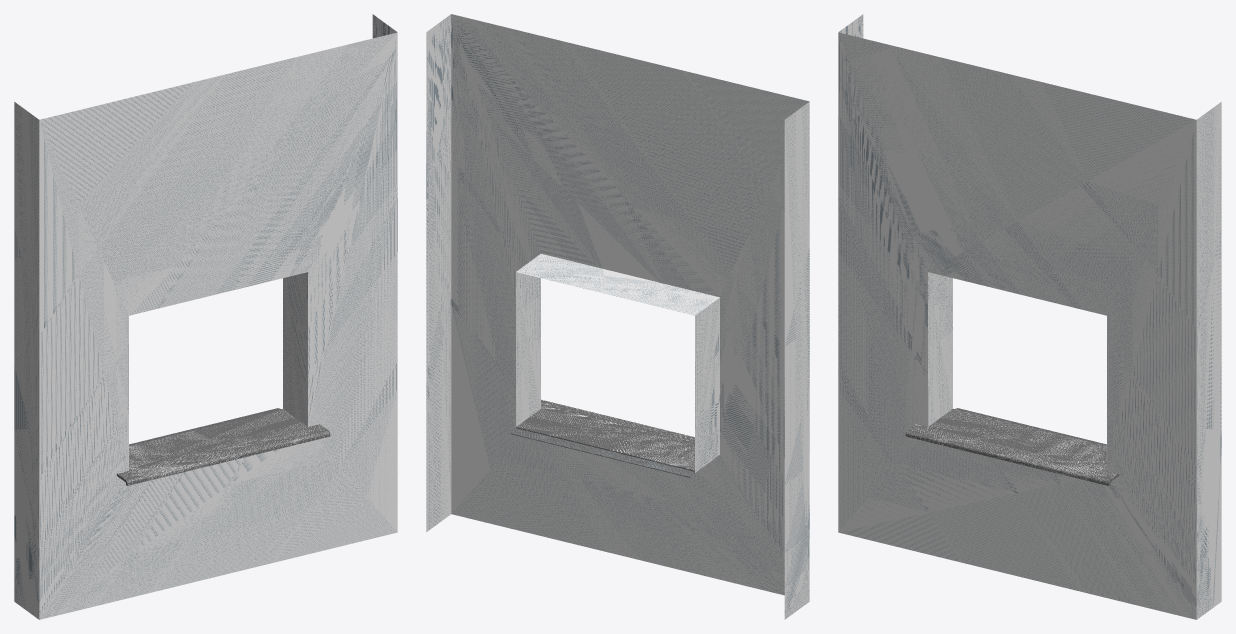
The model's file is WindowBlock_os_[300x400]_150x124x[100].dae.
The picture shows the model from 3 angles, left to right: view 1: azimuth 30°, elevation 25°; view 2: azimuth 150°, elevation 25°; view 3: azimuth 330°, elevation 25°; orthographic projection.
Parts seen in each view (by area): view 1: group_2 (×2), group_1; view 2: group_2 (×2), group_1 (×2); view 3: group_2 (×2), group_1.
Boxes of the visible parts, left/top/right/bottom form: group_2 (×2): left=14, top=14, right=397, bottom=619; group_1: left=117, top=409, right=330, bottom=485; group_2 (×2): left=426, top=14, right=809, bottom=619; group_1 (×2): left=511, top=399, right=694, bottom=477; group_2 (×2): left=838, top=14, right=1221, bottom=619; group_1: left=905, top=409, right=1118, bottom=485.
Bounding box in the file's own units: 118 × 23.03 × 157.
